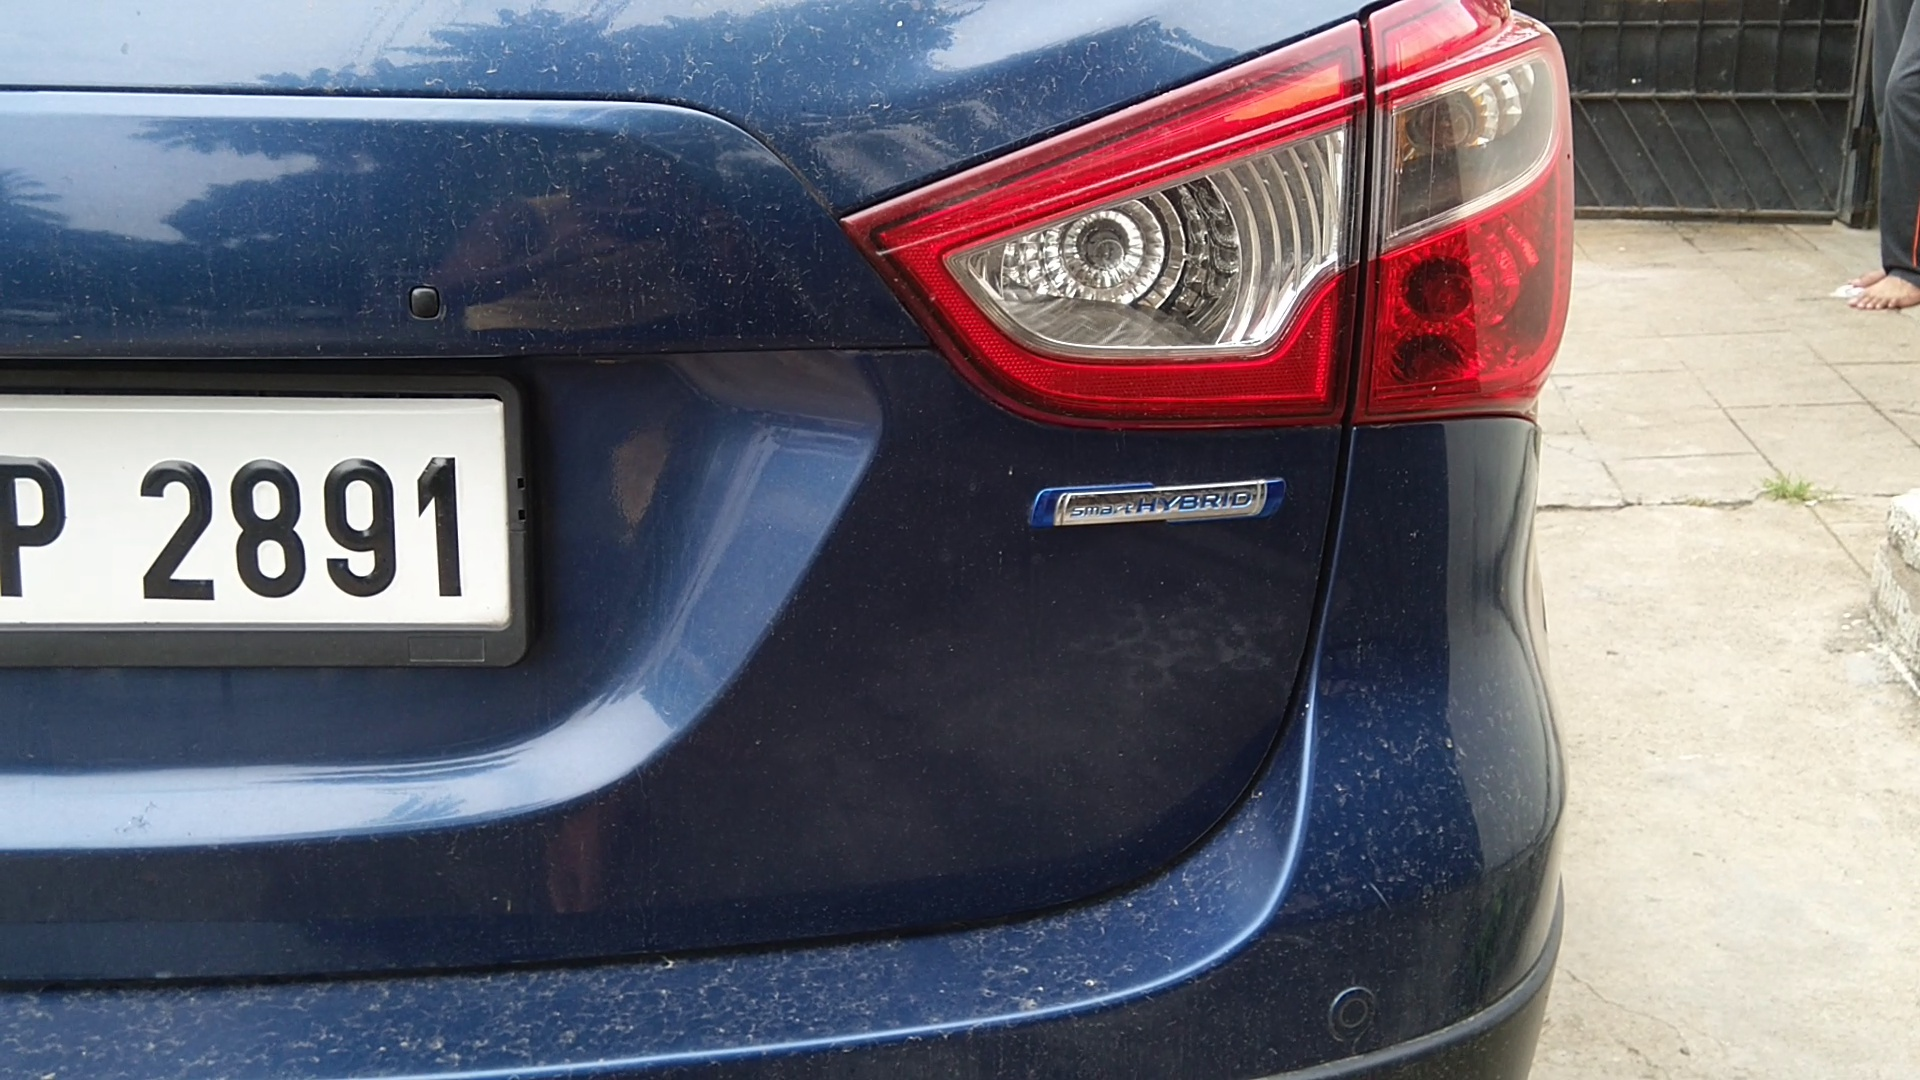shvs: (1007, 452, 1320, 566)
